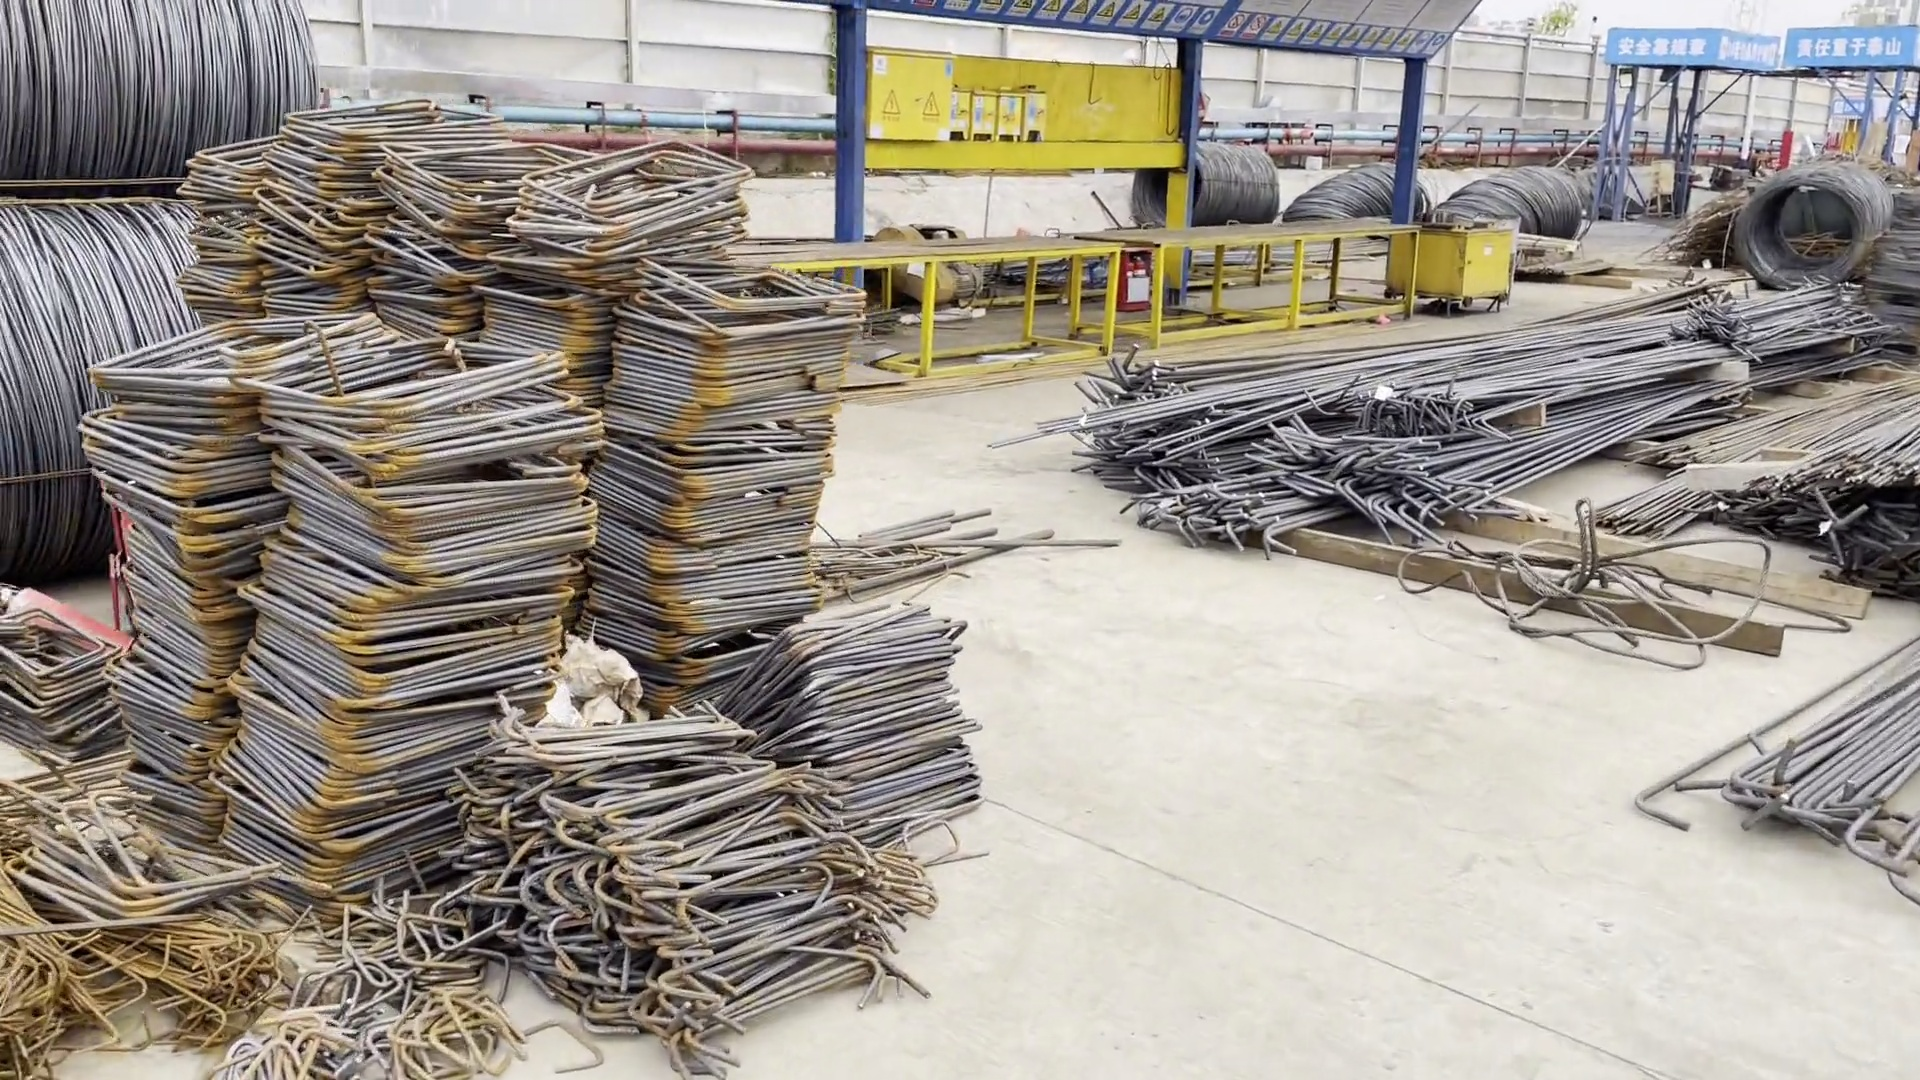ebox: (862, 45, 953, 146)
rebar: (1065, 272, 1851, 550), (1644, 620, 1920, 857), (1737, 348, 1920, 603)
slogan: (1609, 38, 1712, 67), (1813, 37, 1909, 63)
